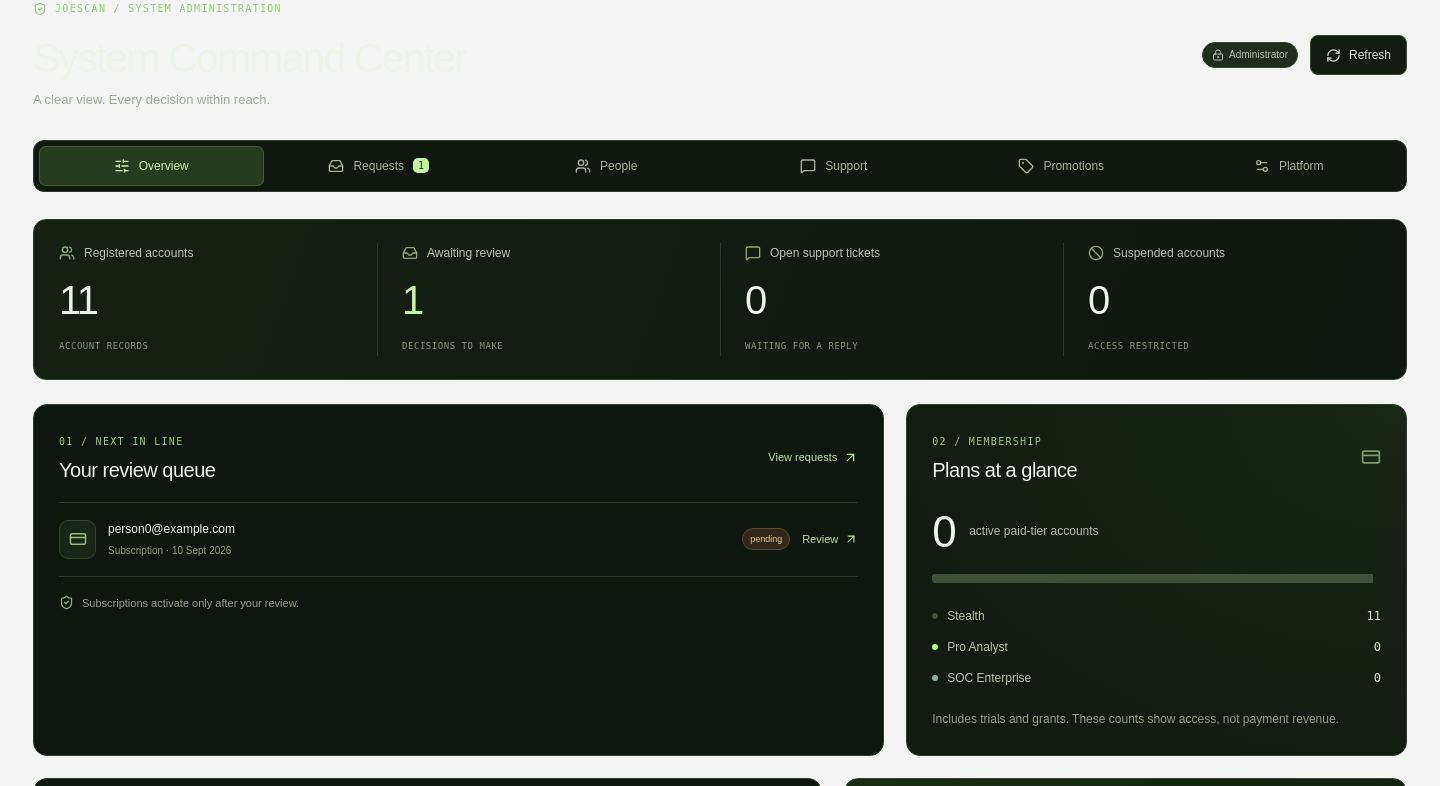
it: searches accounts and paginates the roster, including no-results recovery
Step 1. Click the button "People" → (606, 166), box [494,146,718,186]
(page scrolled)
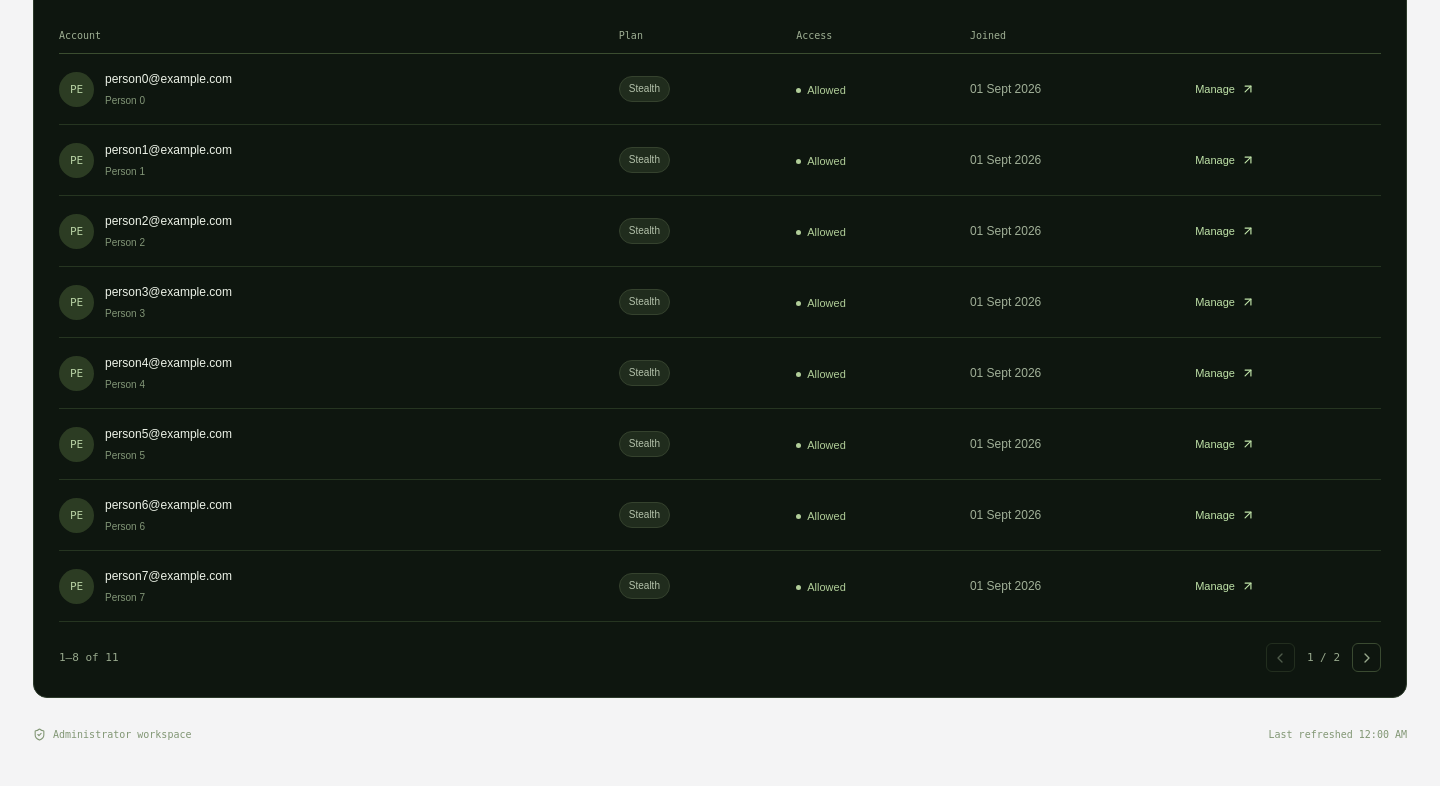
Now the number of buttons named "Manage person" is 8
Step 2. Click the button named "Next page" → (1366, 658), box [1352,643,1381,672]
(page scrolled)
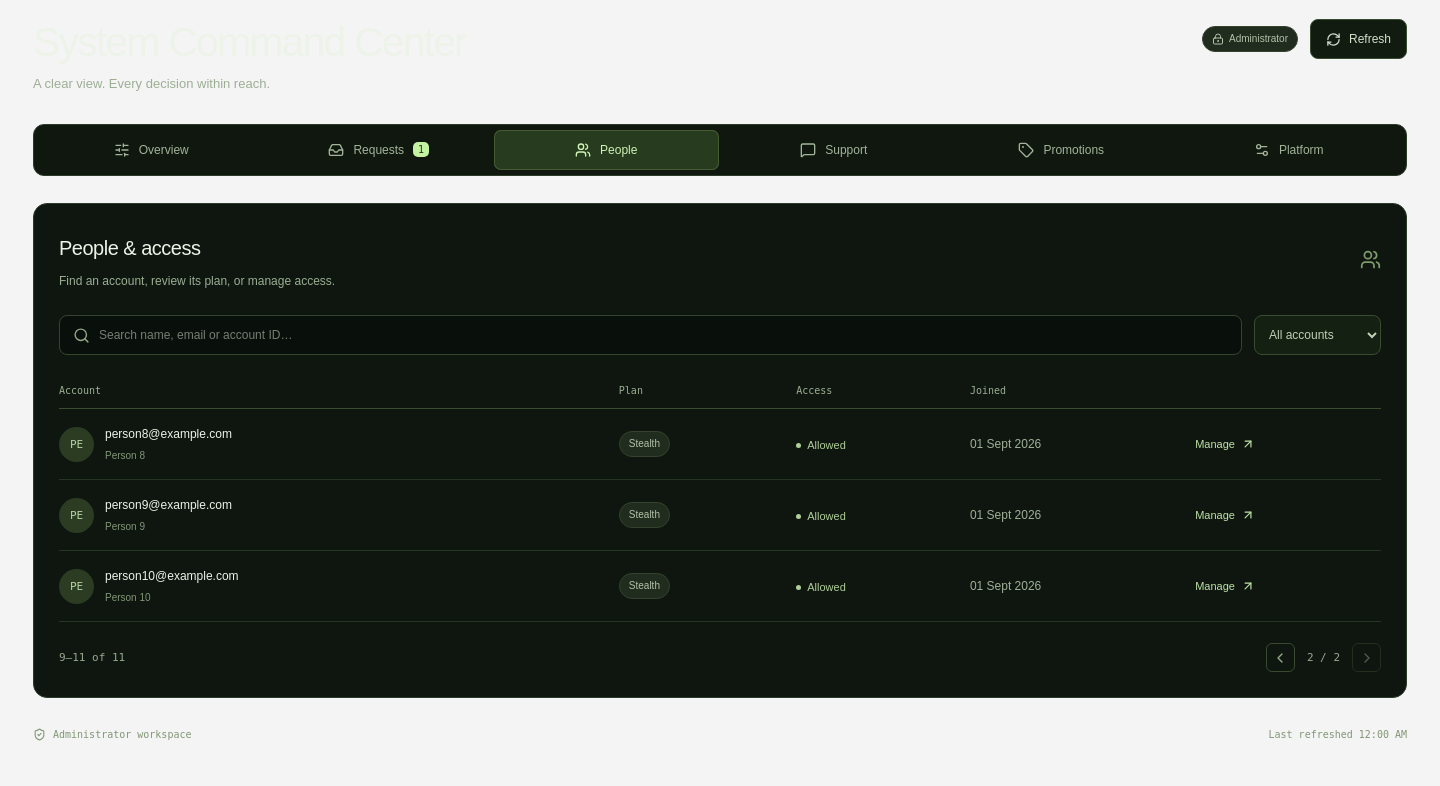
Expected: the number of buttons named "Manage person" is 3, [1195,436,1255,452]; [1195,507,1255,524]; [1195,578,1255,594]
Step 3. Type "person10@" into the field labelled "Search name, email or account ID…" → (664, 335), box [99,326,1228,344]
(page scrolled)
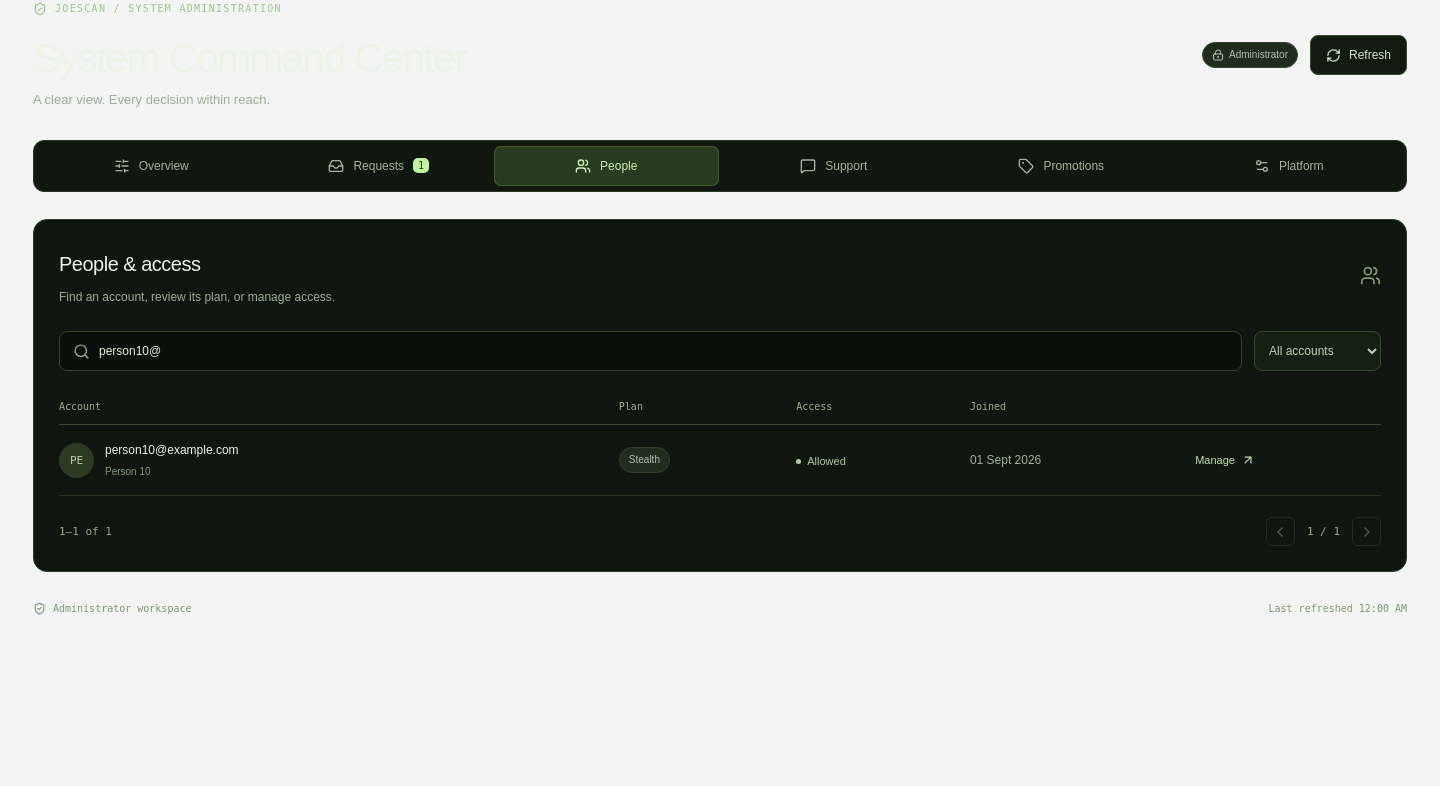
Now the number of buttons named "Manage person" is 1, box [1195,452,1255,468]
Step 4. Replace the text in the field named "Search name" with "no one" → (664, 351), box [99,342,1228,360]
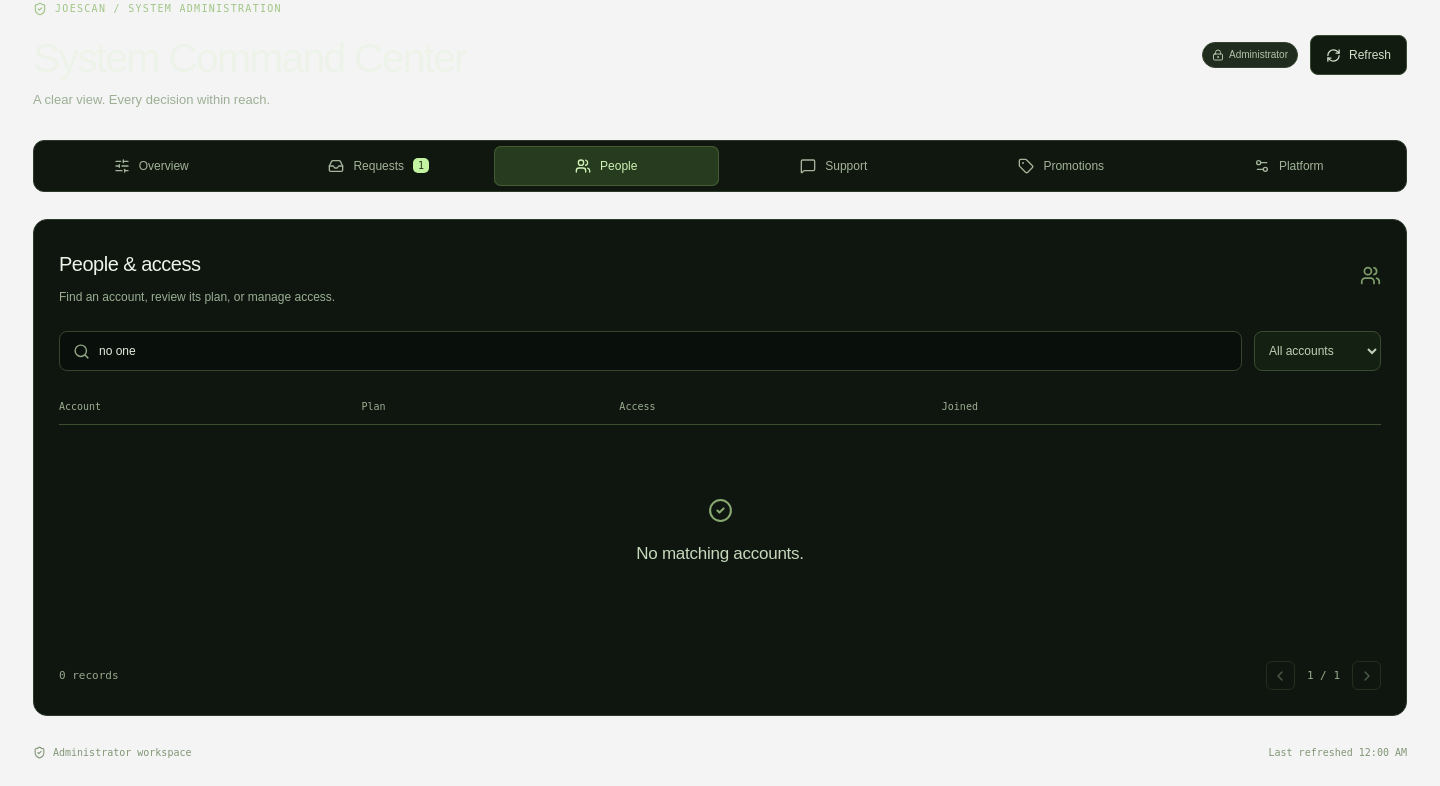
Now the heading "No matching accounts." is shown, box [636,541,804,567]
